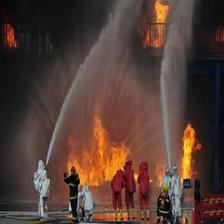fire: (65, 120, 133, 183), (139, 4, 178, 51), (178, 125, 203, 184), (5, 20, 18, 49), (156, 153, 166, 186)
